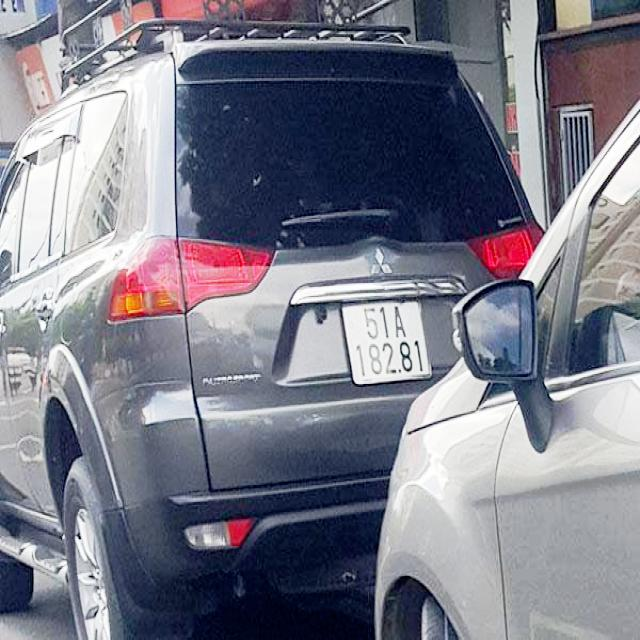license_plate: (345, 301, 433, 386)
